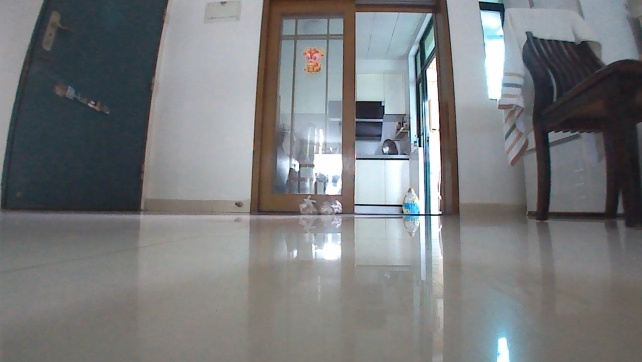cupboard: (351, 154, 412, 214)
door_anno: (0, 0, 169, 217)
